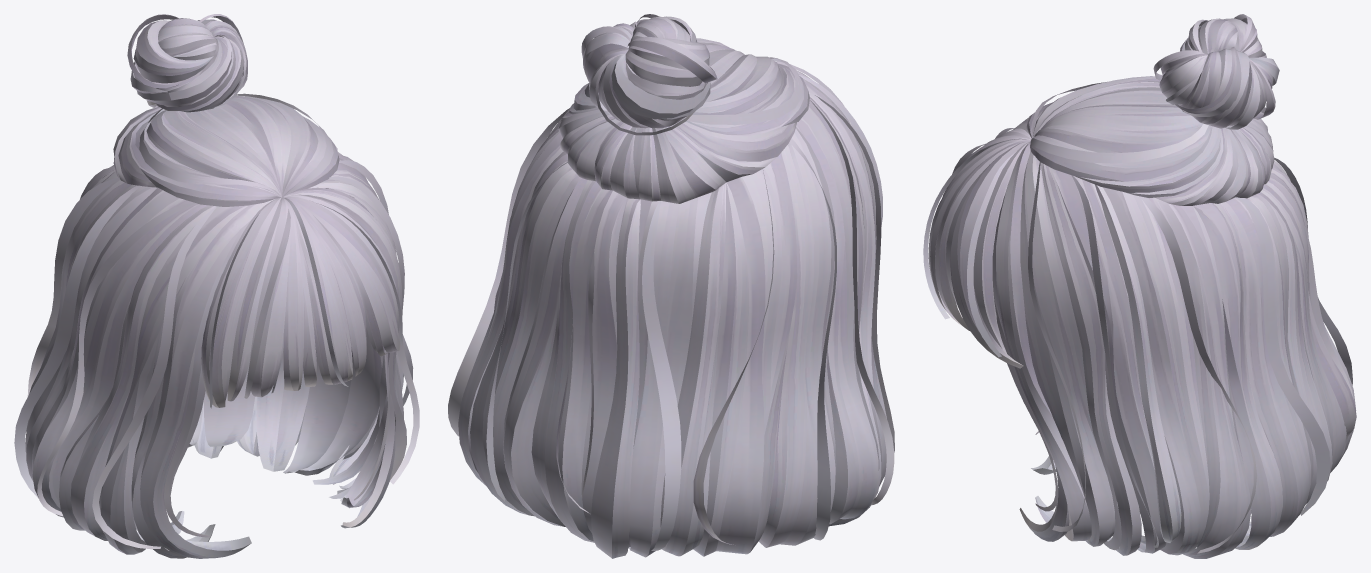
The model's file is shorthair.glb.
3 views of the same model, side by side, from view 1: azimuth 30°, elevation 25°; view 2: azimuth 150°, elevation 25°; view 3: azimuth 270°, elevation 25° (orthographic). The views are drawn at different scales.
Visible parts, largest first — view 1: PH00025_01, PH00025_02; view 2: PH00025_01, PH00025_02; view 3: PH00025_01, PH00025_02.
Boxes of the visible parts, bbox=[...] form: PH00025_01: bbox=[14, 93, 419, 558]; PH00025_02: bbox=[127, 14, 247, 112]; PH00025_01: bbox=[448, 38, 894, 558]; PH00025_02: bbox=[581, 14, 717, 135]; PH00025_01: bbox=[923, 76, 1356, 558]; PH00025_02: bbox=[1153, 14, 1279, 129].
Bounding box in the file's own units: 0.2718 × 0.3239 × 0.2659.
1 material, 1 textured.
